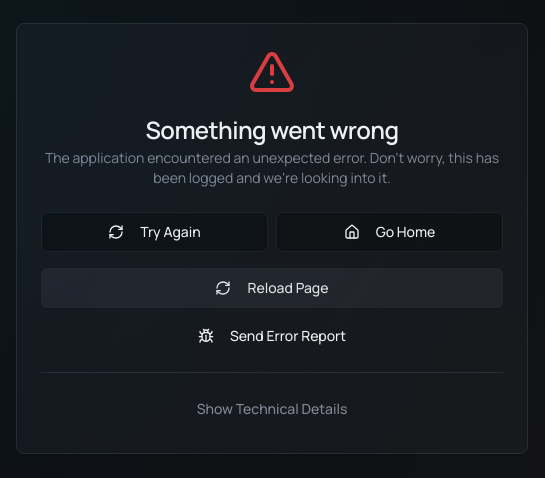
Test: ErrorFallback › should handle error reporting
Click the button "Send Error Report" at coordinates (272, 336), box [41, 316, 503, 356]
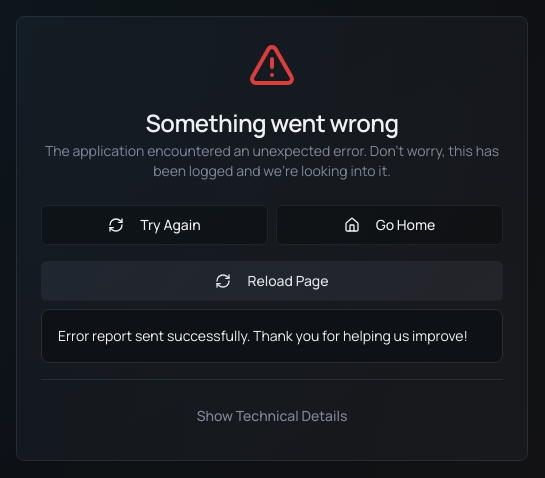
Expected: the text "Error report sent successfully" is shown, [58, 326, 468, 344]
